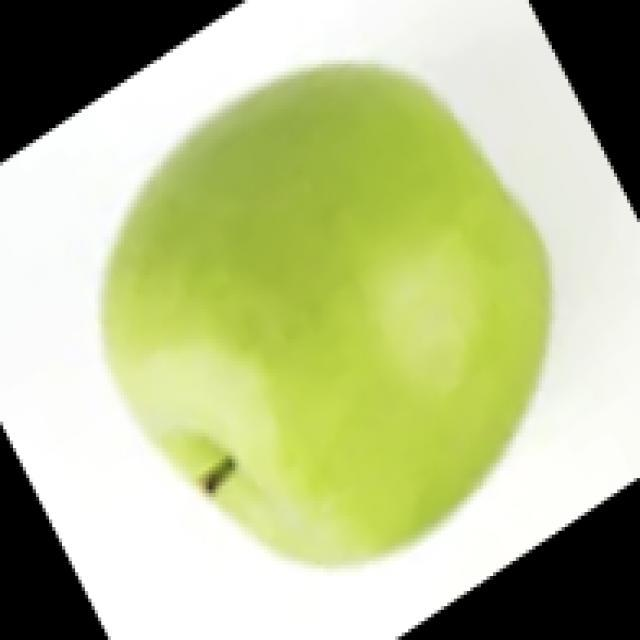Fresh Apple: (95, 67, 527, 550)
